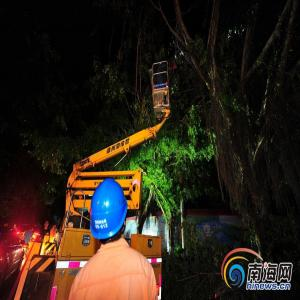blue: (87, 178, 130, 246)
